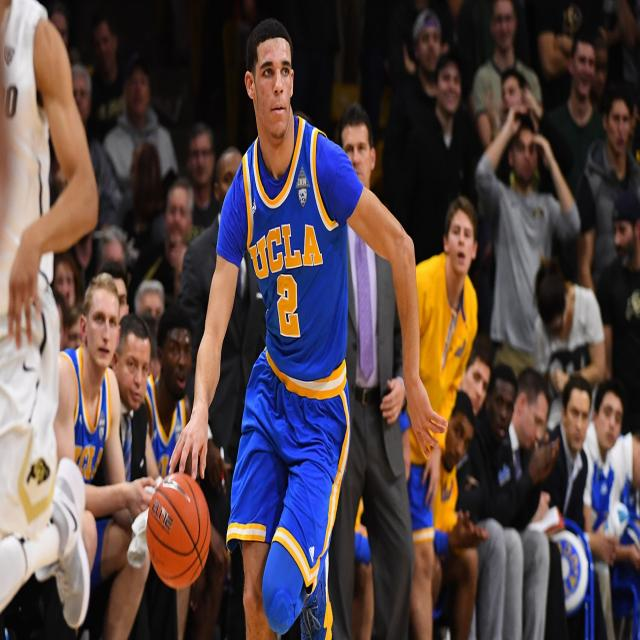body: (164, 14, 450, 639), (0, 0, 108, 639), (350, 186, 482, 639), (328, 100, 418, 639), (54, 268, 158, 635), (178, 145, 269, 491), (142, 299, 232, 639), (475, 100, 581, 377), (91, 311, 179, 640), (496, 365, 567, 640), (500, 363, 564, 639), (86, 132, 170, 328), (581, 376, 640, 640), (432, 387, 486, 640), (398, 0, 467, 198), (530, 261, 607, 429), (580, 84, 640, 294), (468, 0, 544, 151), (536, 372, 596, 555), (592, 192, 640, 416), (545, 28, 608, 198), (48, 0, 125, 133), (103, 61, 180, 179), (494, 64, 558, 199), (604, 431, 640, 639), (148, 175, 196, 294), (538, 0, 610, 63), (187, 121, 220, 229), (48, 251, 82, 352), (458, 349, 493, 422)
